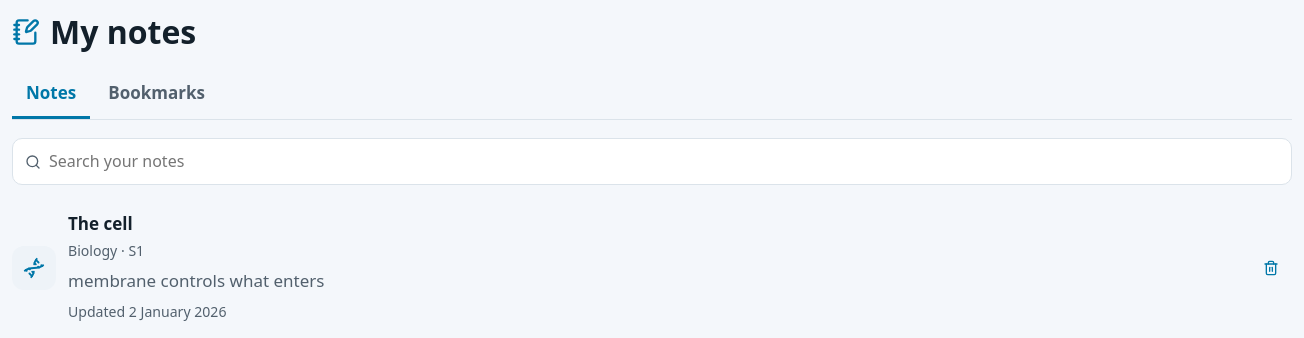
Test: My notes › shows bookmarks on their tab
The image size is (1304, 338).
expect the text "The cell" is shown: met, box [68, 212, 133, 235]
Click the tab "Bookmarks". click: [157, 95]
box: [94, 70, 219, 119]
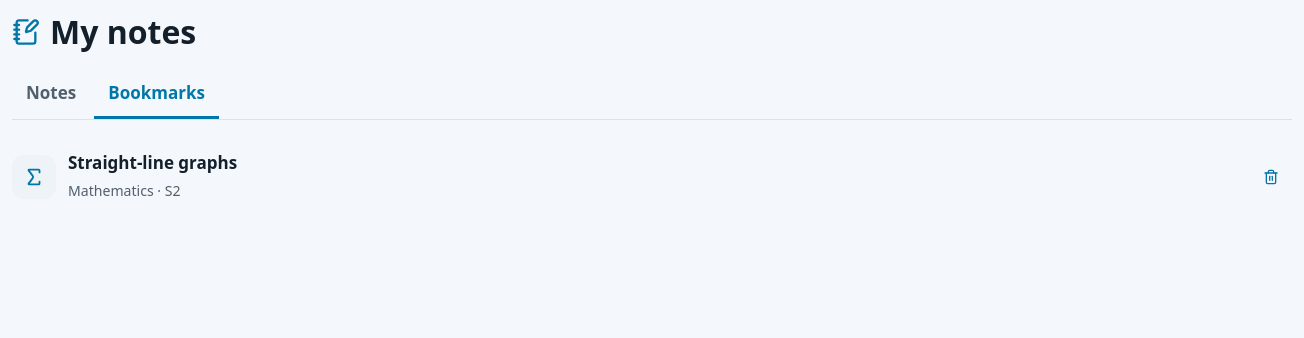
expect the text "Straight-line graphs" is shown: met, box [68, 151, 237, 174]
